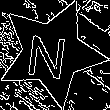N_N: (28, 26, 75, 80)
